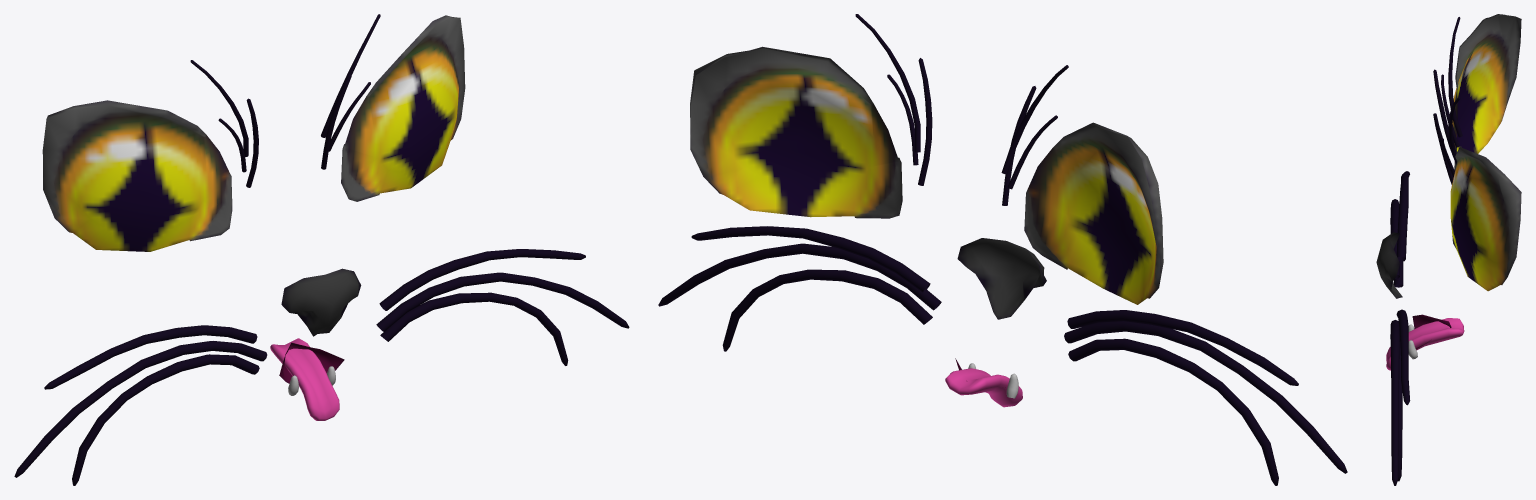
The model's file is CatHeadDetail.glb.
The picture shows the model from 3 angles, left to right: view 1: azimuth 30°, elevation 25°; view 2: azimuth 150°, elevation 25°; view 3: azimuth 270°, elevation 25°; orthographic projection. The views are drawn at different scales.
Visible parts, largest first — view 1: catheaddetails; view 2: catheaddetails; view 3: catheaddetails.
Boxes of the visible parts, x1,y1,x2,y2 form: catheaddetails: (14,14,629,485); catheaddetails: (658,14,1347,485); catheaddetails: (1376,14,1521,485).
Bounding box in the file's own units: 1.74 × 0.981 × 0.4048.
1 material, 1 textured.
